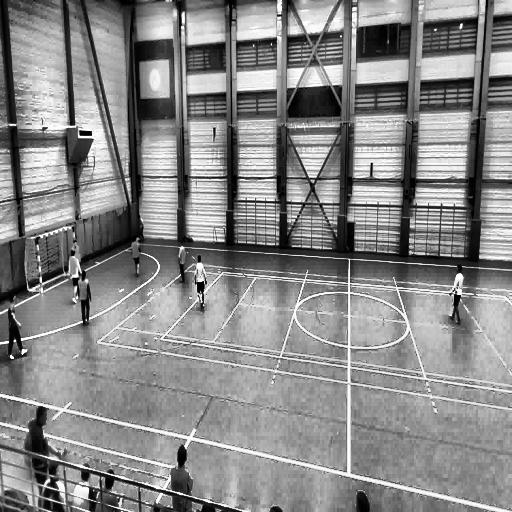player: (169, 443, 194, 511), (38, 461, 71, 512), (29, 403, 49, 485), (71, 461, 97, 512), (96, 461, 122, 512), (447, 263, 464, 324), (6, 307, 26, 357), (78, 270, 92, 325), (194, 254, 207, 310), (68, 252, 81, 306), (131, 235, 141, 278), (178, 240, 187, 284), (71, 239, 82, 268)
